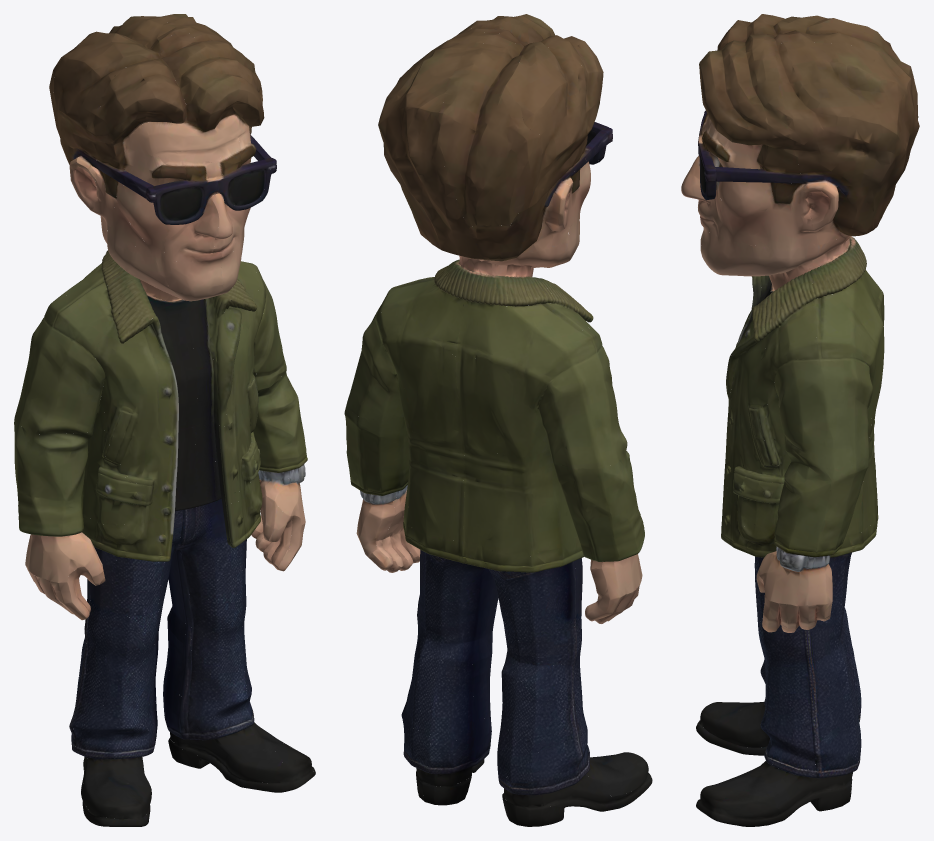
Rendered from action-figure-3d.glb.
3 views of the same model, side by side, from view 1: azimuth 30°, elevation 25°; view 2: azimuth 150°, elevation 25°; view 3: azimuth 270°, elevation 25° (orthographic).
Visible parts, largest first — view 1: tripo_node_356c7e14-b1c5-4833-a398-6fd97f00942a; view 2: tripo_node_356c7e14-b1c5-4833-a398-6fd97f00942a; view 3: tripo_node_356c7e14-b1c5-4833-a398-6fd97f00942a.
Part boxes in pixels (bbox=[...]): tripo_node_356c7e14-b1c5-4833-a398-6fd97f00942a: bbox=[14, 14, 315, 826]; tripo_node_356c7e14-b1c5-4833-a398-6fd97f00942a: bbox=[344, 14, 652, 826]; tripo_node_356c7e14-b1c5-4833-a398-6fd97f00942a: bbox=[681, 14, 919, 826].
Bounding box in the file's own units: 0.385 × 0.9802 × 0.2832.
Materials: 1 (1 with a texture image).
